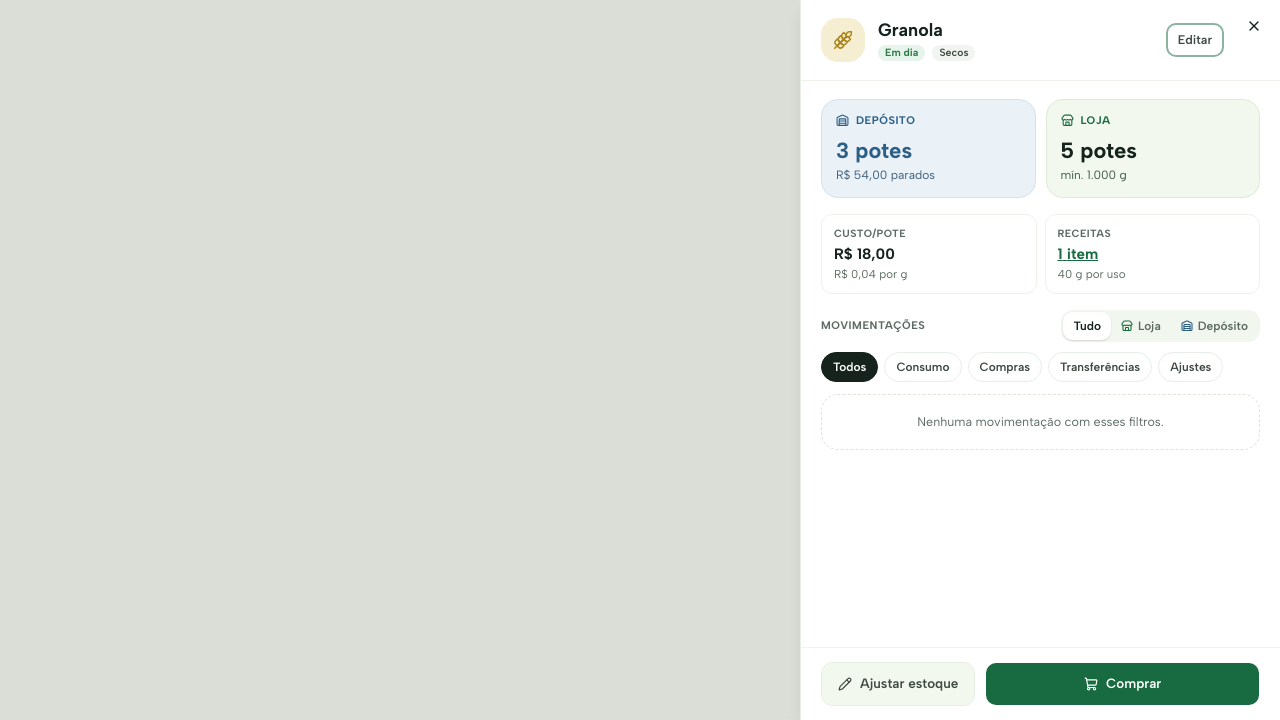
StockDetailSheet › custo · rendimento · receitas › the Receitas tile lists where the item is used
The image size is (1280, 720).
Click the button "Receitas 1 item 40 g por uso": click(1152, 254) [1044,214,1260,294]
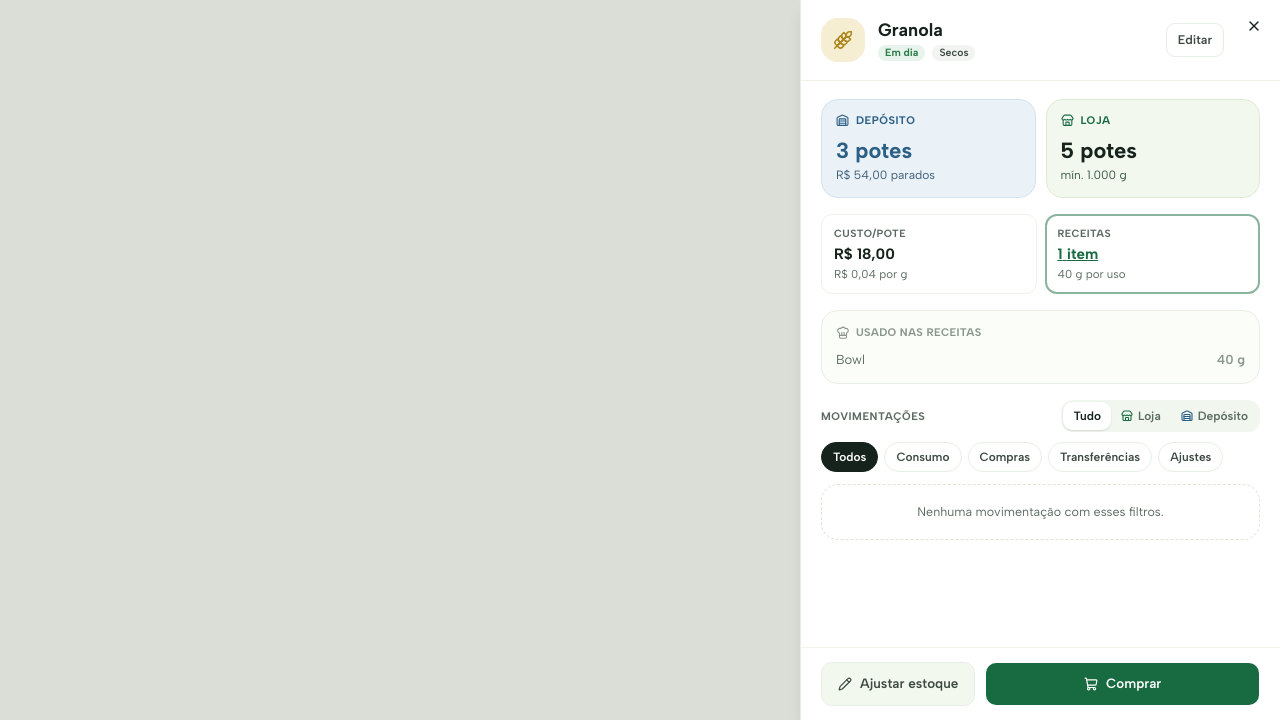
Now the text "Usado nas receitas" is shown, box [836,326,981,340]
Now the text "Bowl" is shown, box [836,351,865,369]
